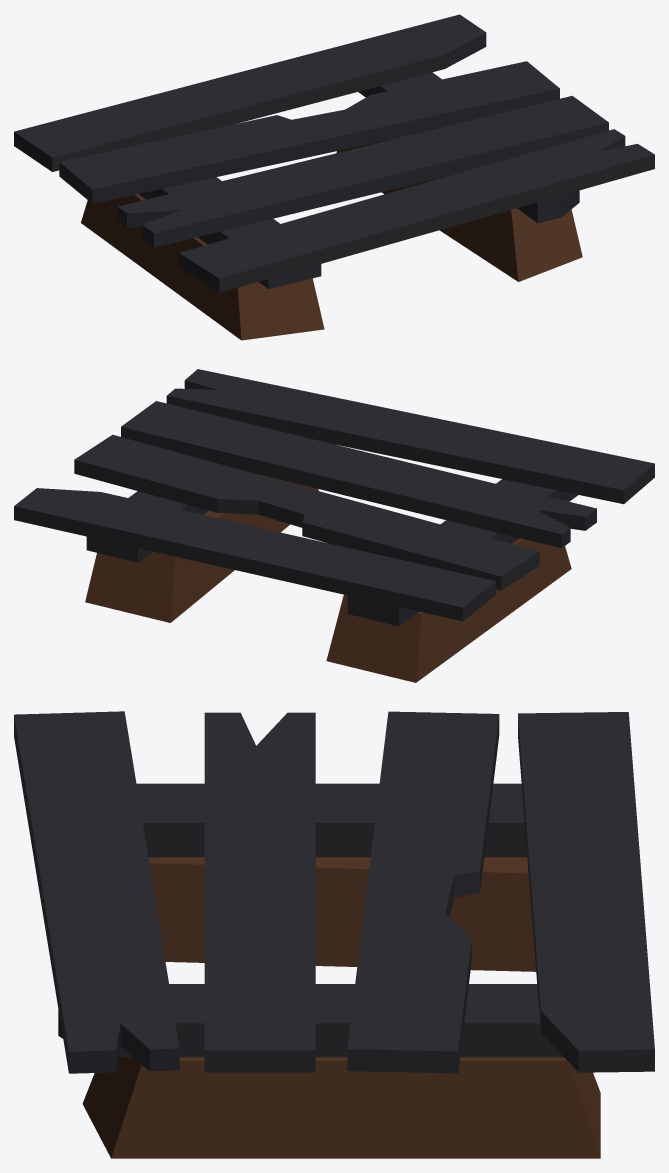
File: LPWarPack_Platform.fbx
3 views of the same model, one above another, from view 1: azimuth 30°, elevation 25°; view 2: azimuth 150°, elevation 25°; view 3: azimuth 270°, elevation 25° (orthographic). The views are drawn at different scales.
Parts seen in each view (by area): view 1: Platform; view 2: Platform; view 3: Platform.
Boxes of the visible parts, bbox=[...] form: Platform: bbox=[14, 14, 654, 340]; Platform: bbox=[14, 369, 654, 682]; Platform: bbox=[14, 711, 654, 1158].
Bounding box in the file's own units: 125 × 25.74 × 99.55.
